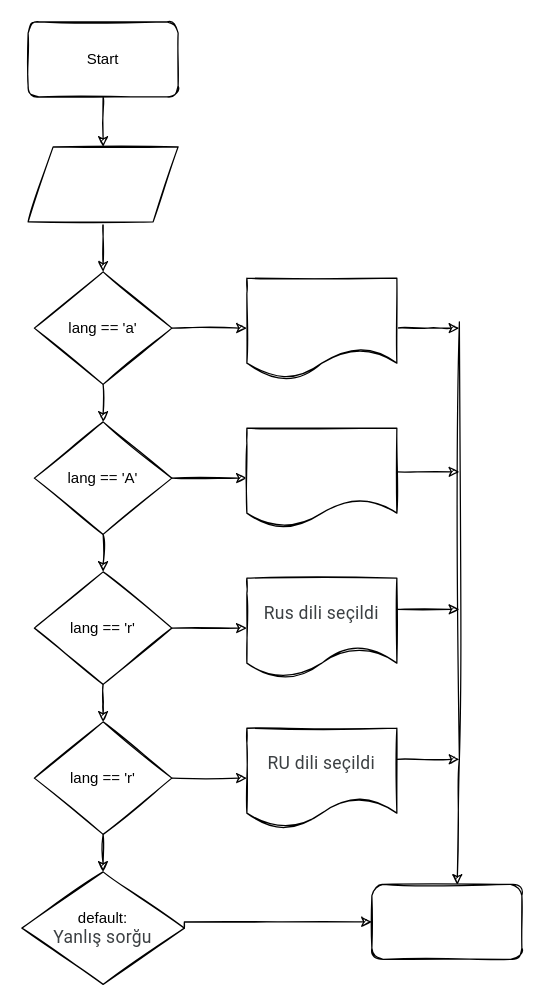
This 544x1006 diagram has some shape labels left out. The shapes that lost their labels are listed below. From the top down, each one's centre as x and y in pixels, then its label:
At (102,184): "char lang".
At (321,327): "Azərbaycan dili seçildi".
At (321,477): "AZ dili seçildi".
At (446,921): "End".
